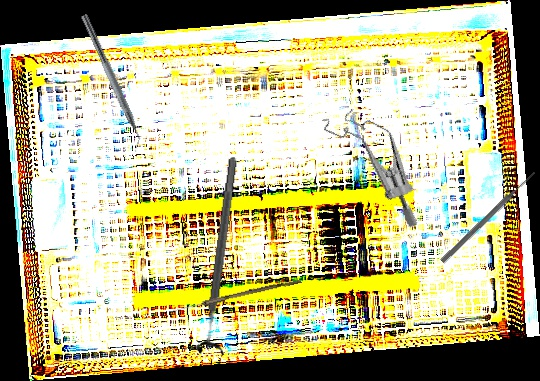Chopper: (71, 13, 149, 154)
Fixation Ring: (193, 155, 249, 358)
Pusher: (439, 169, 538, 265)
Speculum: (296, 97, 452, 230)
Surgical Spoon: (168, 276, 302, 316)
